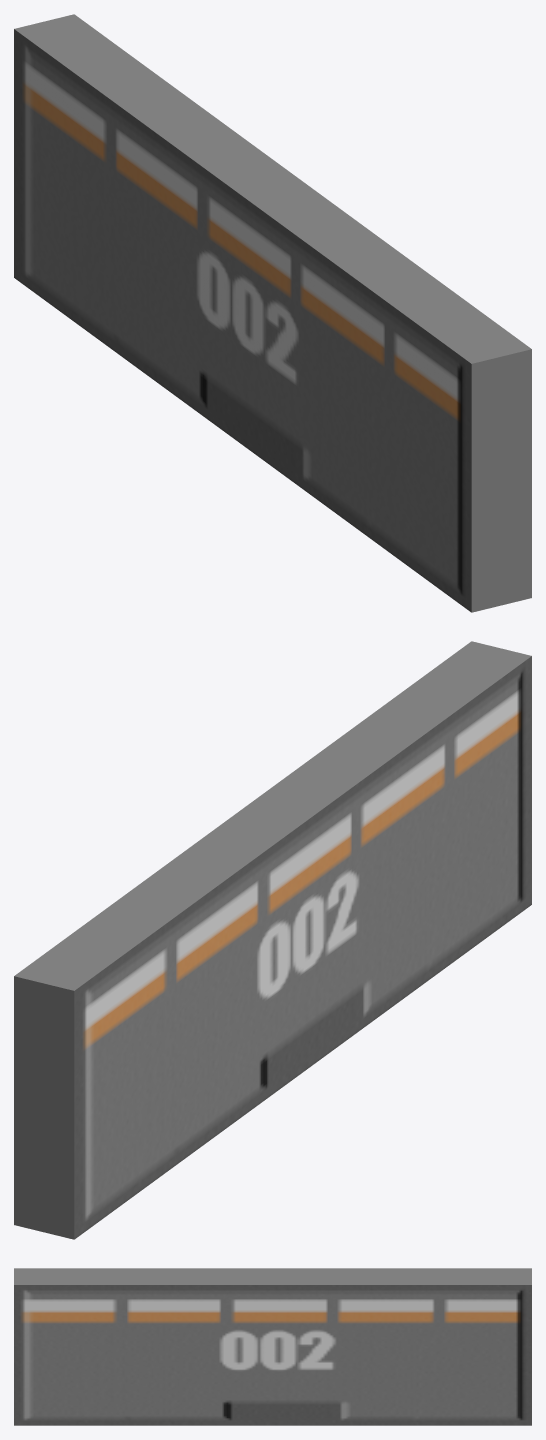
File: TextureCollection.fbx_TextureBar13.fbx
The picture shows the model from 3 angles, top to bottom: view 1: azimuth 30°, elevation 25°; view 2: azimuth 150°, elevation 25°; view 3: azimuth 270°, elevation 25°; orthographic projection. The views are drawn at different scales.
Visible parts, largest first — view 1: Plane.028; view 2: Plane.028; view 3: Plane.028.
Boxes of the visible parts, left/top/right/bottom form: Plane.028: left=14, top=14, right=531, bottom=612; Plane.028: left=14, top=641, right=531, bottom=1239; Plane.028: left=14, top=1268, right=531, bottom=1425.
Size of the model in its own units: 1000 by 76.17 by 300.
